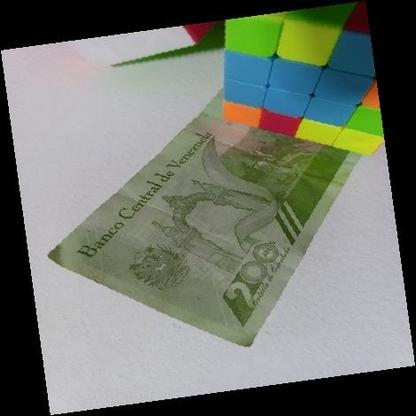fifty-back-vef: (46, 82, 363, 348)
